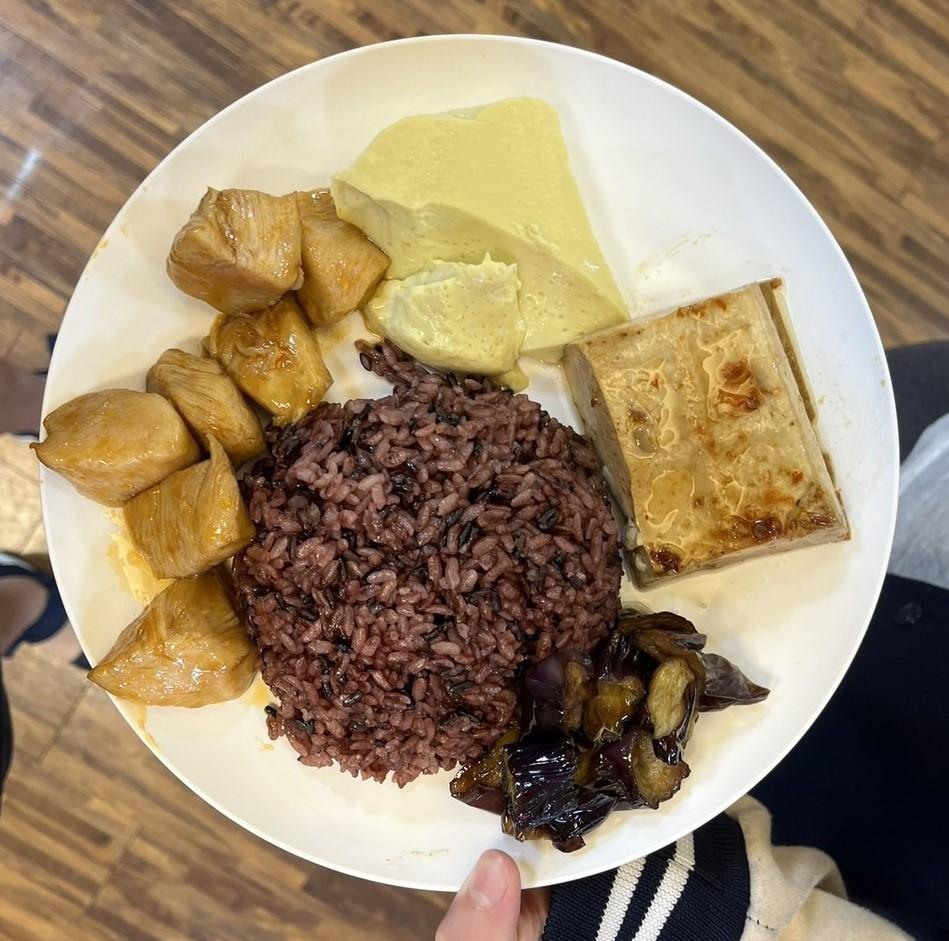big fried chicken leg: (40, 24, 914, 894)
braised fish: (226, 376, 624, 774)
braised fish fillet: (563, 272, 850, 590), (330, 96, 632, 384), (455, 600, 750, 848)
braised pork: (40, 160, 372, 718)
